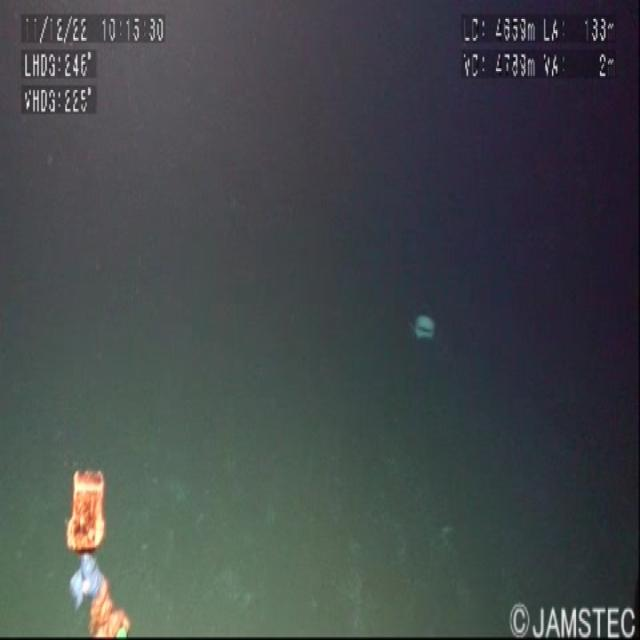Litter: (372, 270, 464, 374)
